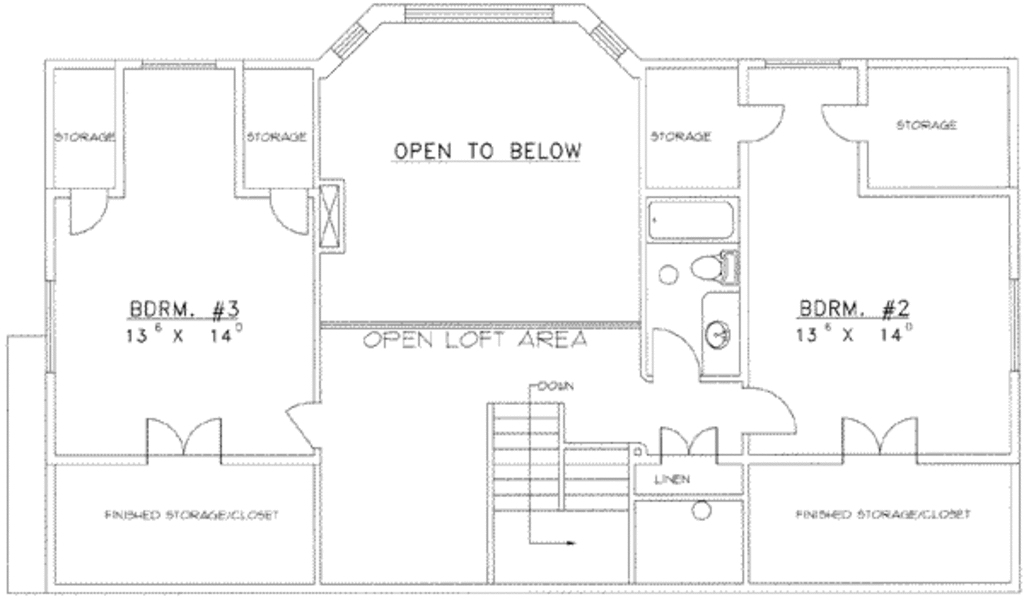door: (827, 416, 938, 470), (135, 418, 228, 463), (651, 418, 736, 465), (287, 391, 352, 450), (645, 321, 699, 384), (745, 387, 806, 441), (61, 188, 126, 234), (264, 191, 317, 240), (741, 99, 791, 143), (823, 100, 866, 146)
large_sink: (690, 247, 754, 294)
small_sink: (704, 297, 750, 381)
stairs: (493, 400, 630, 590)
tub: (647, 197, 739, 242)
window: (395, 3, 555, 23), (313, 18, 378, 63), (1005, 266, 1024, 369), (591, 21, 634, 63), (743, 59, 855, 74), (130, 57, 223, 72)
